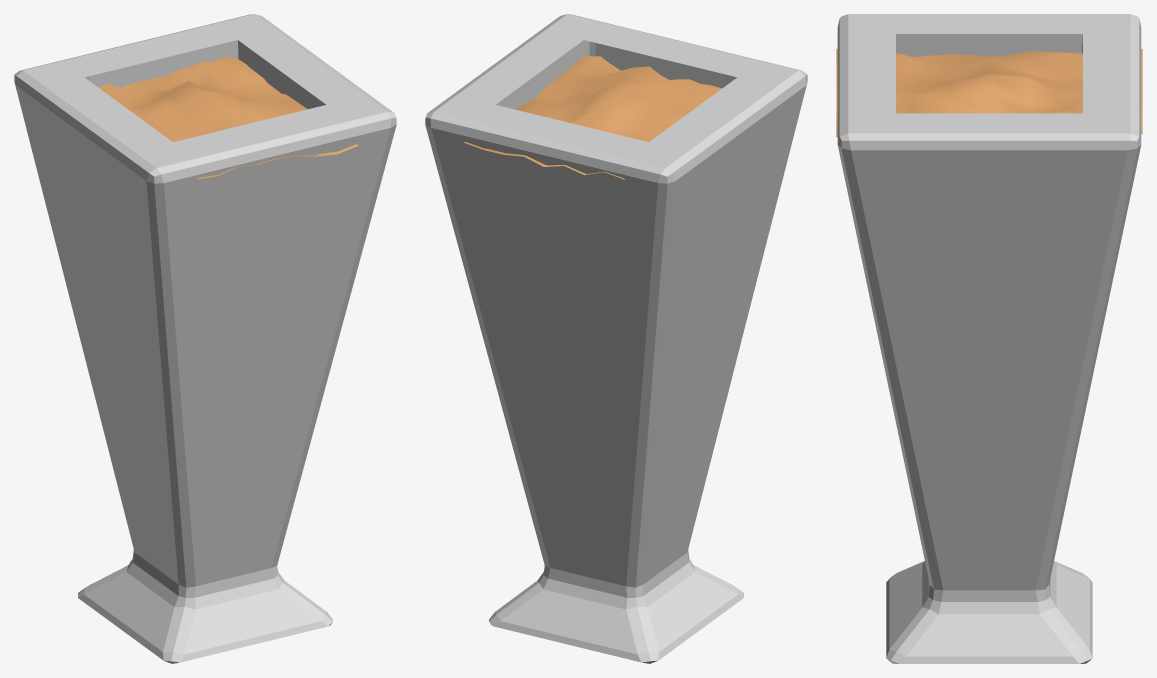
The model's file is Paso-malaki2.fbx.
3 views of the same model, side by side, from view 1: azimuth 30°, elevation 25°; view 2: azimuth 150°, elevation 25°; view 3: azimuth 270°, elevation 25° (orthographic). The views are drawn at different scales.
Parts seen in each view (by area): view 1: Cube.002, Plane.001; view 2: Cube.002, Plane.001; view 3: Cube.002, Plane.001.
Boxes of the visible parts, x1,y1,x2,y2 form: Cube.002: (14, 14, 396, 663); Plane.001: (98, 57, 358, 179); Cube.002: (425, 14, 807, 663); Plane.001: (464, 55, 721, 179); Cube.002: (837, 14, 1141, 663); Plane.001: (836, 48, 1142, 137).
Size of the model in its own units: 55.14 by 110 by 55.62.
